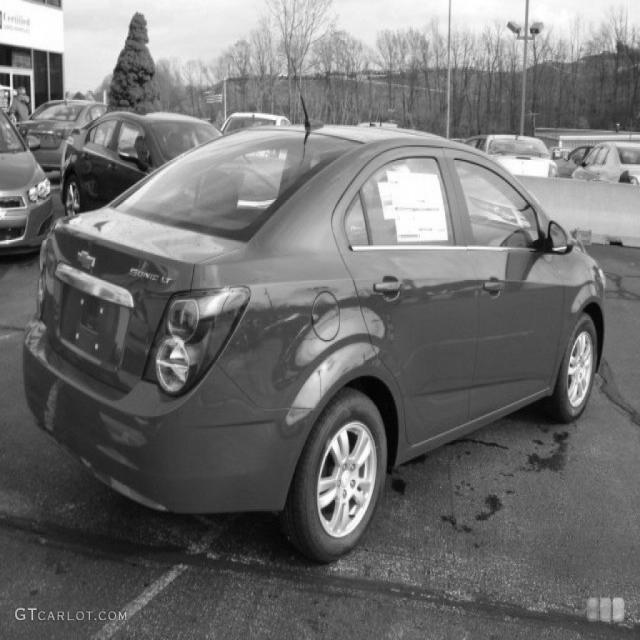car: (22, 109, 607, 564)
